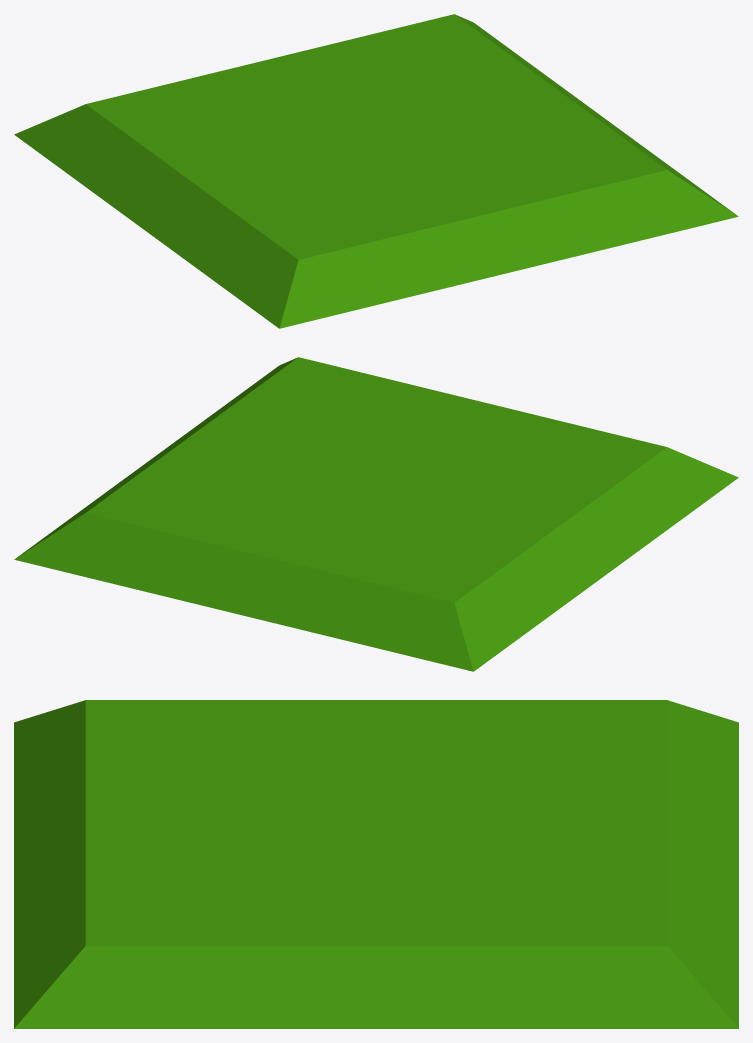
File: Tile.fbx
The picture shows the model from 3 angles, top to bottom: view 1: azimuth 30°, elevation 25°; view 2: azimuth 150°, elevation 25°; view 3: azimuth 270°, elevation 25°; orthographic projection. The views are drawn at different scales.
Visible parts, largest first — view 1: Tile; view 2: Tile; view 3: Tile.
Part boxes in pixels (x1,y1,x2,y2): Tile: [14, 14, 738, 328]; Tile: [14, 357, 738, 671]; Tile: [14, 700, 738, 1028].
Size of the model in its own units: 1.25 by 0.1 by 1.25.
